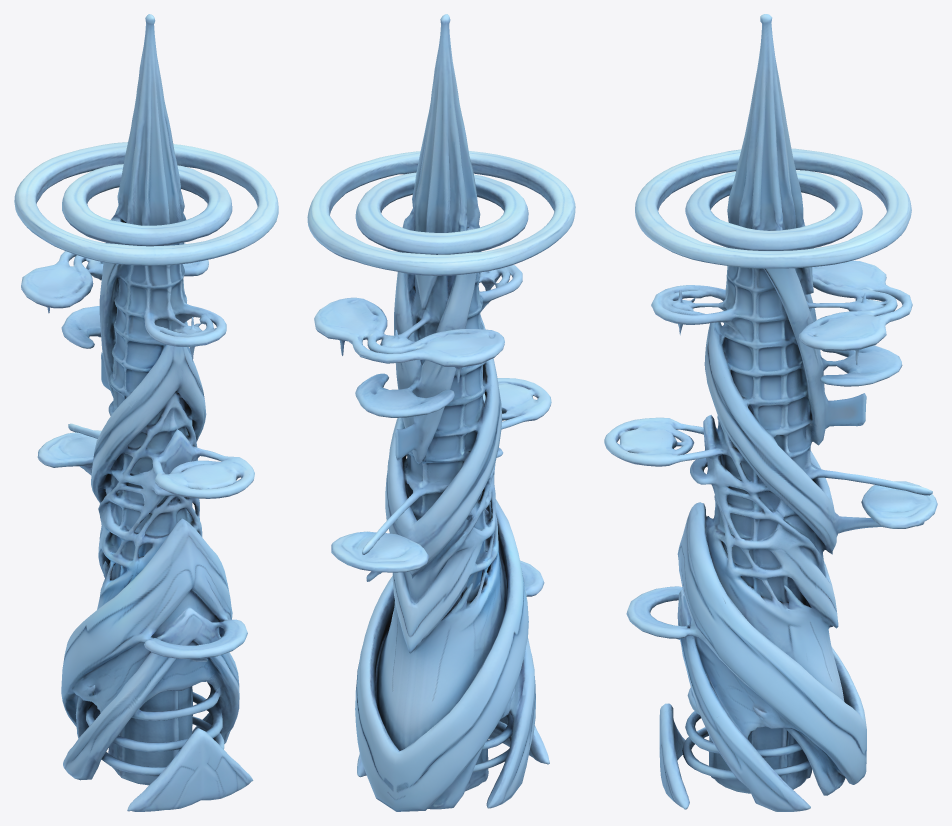
The model's file is base_basic_shaded.glb.
3 views of the same model, side by side, from view 1: azimuth 30°, elevation 25°; view 2: azimuth 150°, elevation 25°; view 3: azimuth 270°, elevation 25° (orthographic).
Visible parts, largest first — view 1: model; view 2: model; view 3: model.
Part boxes in pixels (x1,y1,x2,y2): model: [14, 14, 278, 811]; model: [307, 14, 575, 811]; model: [604, 14, 937, 811].
Bounding box in the file's own units: 0.59 × 1.9 × 0.7506.
1 material, 1 textured.
